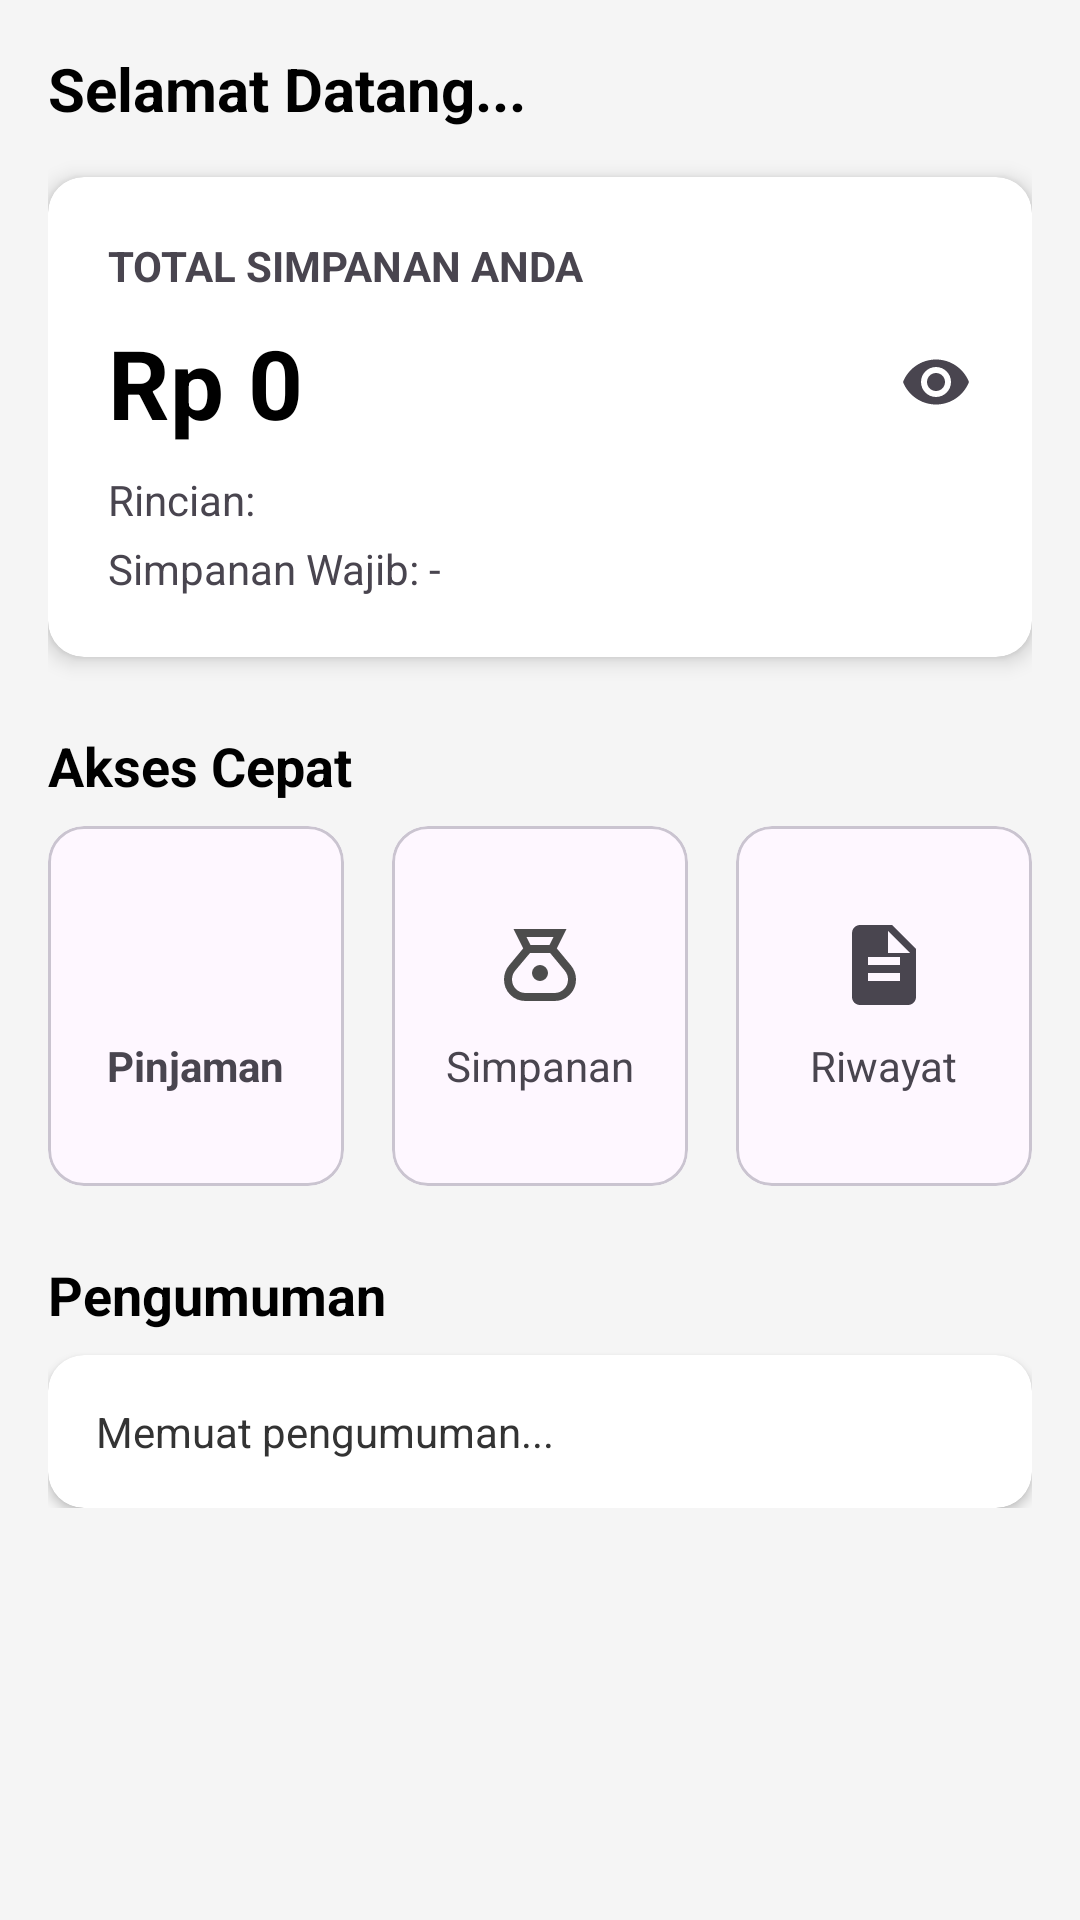

Icons on this 1080px x 1920px Android screen, each with the point to tap as [x,y]:
eye open: [936,382]
report: [884,965]
savings: [540,965]
